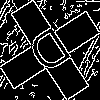D: (25, 25, 80, 83)
